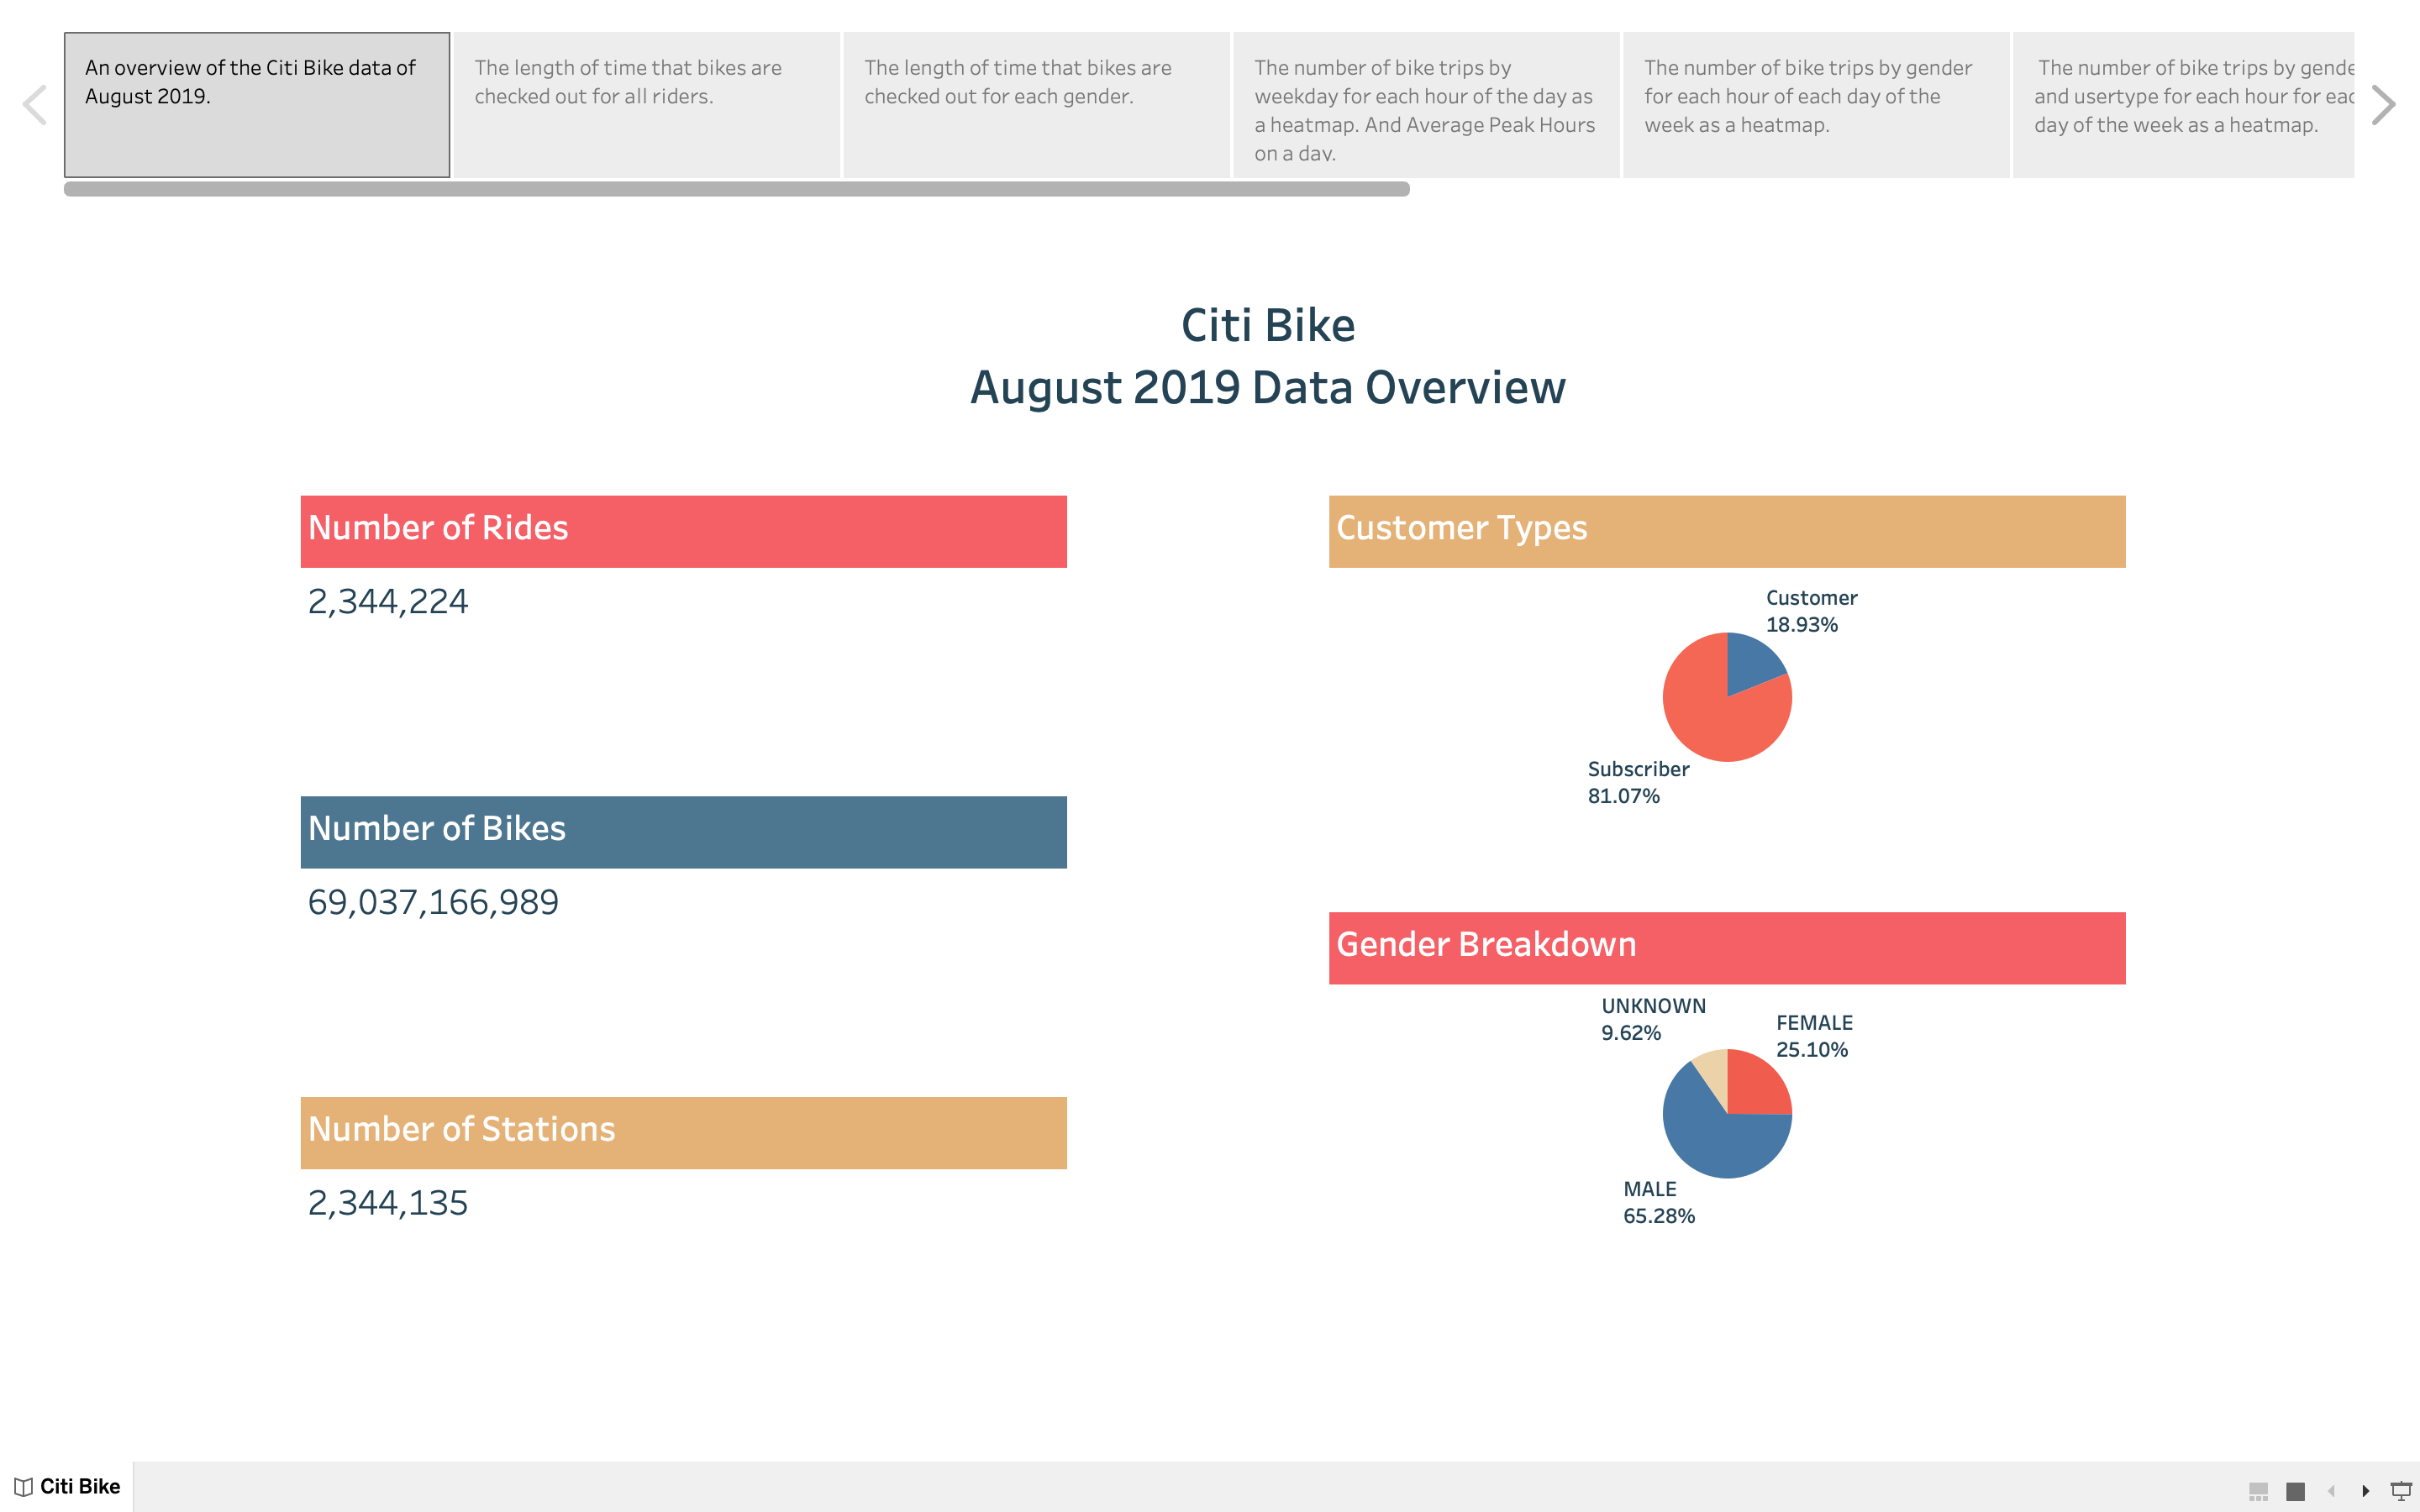

What the dashboard file says about the page in this screenshot:
{"tool":"tableau","page":{"name":"1. Overview","canvas":[1000,1000],"units":"permille","ordinal":0},"visuals":[{"type":"text","box":[255.1,22.9,539.5,184.8]},{"type":"worksheet","title":"1. Number of Rides","mark":"Automatic","box":[119.8,229.2,320.3,111.8]},{"type":"worksheet","title":"2. Customers","mark":"Pie","box":[550.1,229.2,332.5,267.9]},{"type":"worksheet","title":"Number of Bikes","mark":"Automatic","box":[119.8,472.8,320.3,113.2]},{"type":"worksheet","title":"6. Gender Breakdown","mark":"Pie","box":[550.1,565.9,332.5,267.9]},{"type":"worksheet","title":"Number of Stations","mark":"Automatic","box":[119.8,716.3,320.3,111.8]}]}

Visuals, with their boxes on the dashboard's canvas, which has no fixed pixel size, in thousandths of its width and height (x1, y1, x2, y2). These are canvas units, not pixel positions in the 2420x1512 screenshot, which may show the page scaled, cropped or inside an application window:
text: bbox=(255, 23, 795, 208)
"1. Number of Rides" worksheet: bbox=(120, 229, 440, 341)
"2. Customers" worksheet (Pie marks): bbox=(550, 229, 883, 497)
"Number of Bikes" worksheet: bbox=(120, 473, 440, 586)
"6. Gender Breakdown" worksheet (Pie marks): bbox=(550, 566, 883, 834)
"Number of Stations" worksheet: bbox=(120, 716, 440, 828)
